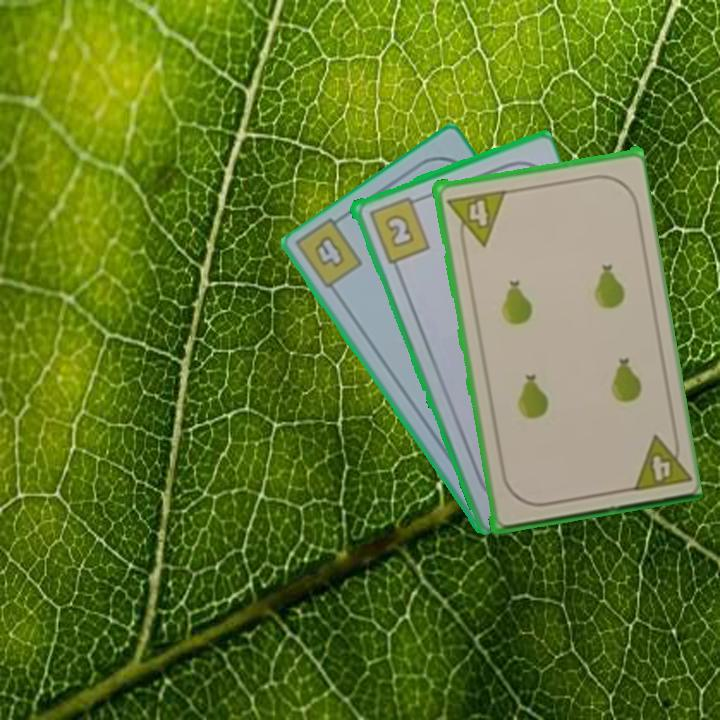2b: (364, 193, 432, 266)
4b: (310, 231, 348, 271)
4p: (626, 427, 691, 494), (442, 186, 507, 251)
